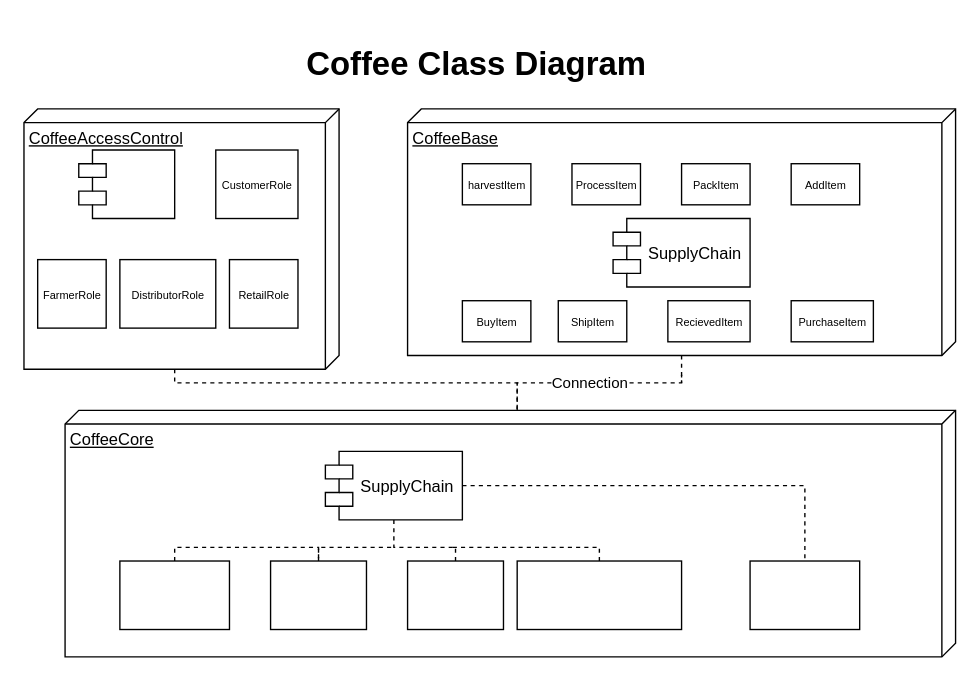
The diagram is 980 pixels wide and 681 high, and some of its shapes have lost their labels. The shapes that lost their labels are listed below. From the top down, each one's centre as x and y in pixels, then its label:
(126,184): Roles
(174,595): Ownable
(317,595): Secondary
(454,595): Pausable
(599,595): ReentrancyGuard
(804,595): TBO
